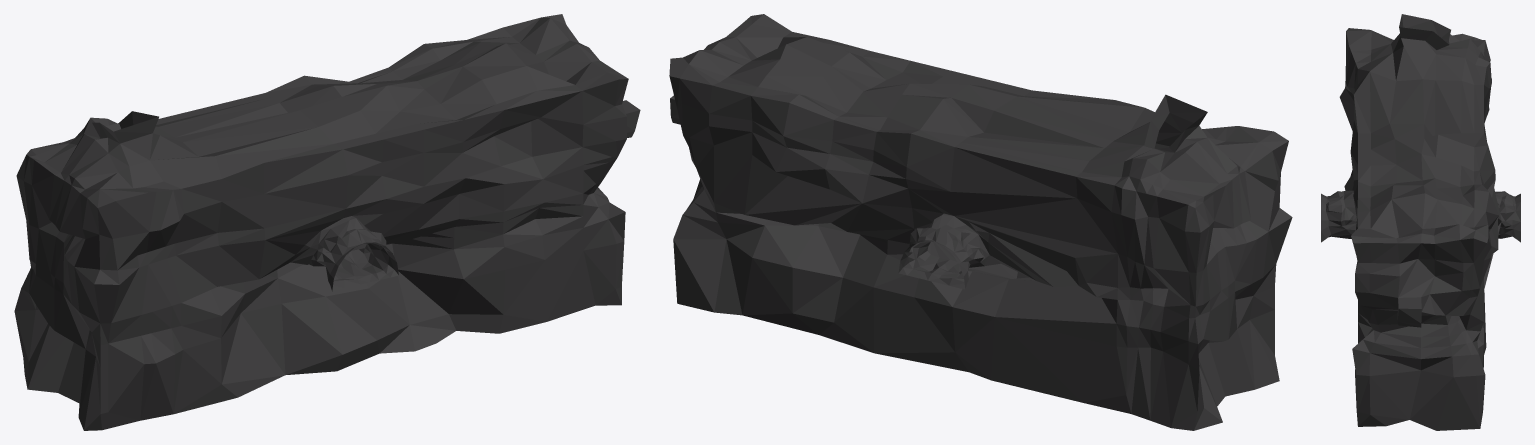
The model's file is Cave_10.fbx.
The picture shows the model from 3 angles, left to right: view 1: azimuth 30°, elevation 25°; view 2: azimuth 150°, elevation 25°; view 3: azimuth 270°, elevation 25°; orthographic projection. The views are drawn at different scales.
Parts seen in each view (by area): view 1: polySurface1252; view 2: polySurface1252; view 3: polySurface1252.
Part boxes in pixels (x1,y1,x2,y2): polySurface1252: (14,14,640,430); polySurface1252: (669,14,1292,430); polySurface1252: (1321,14,1520,430).
Bounding box in the file's own units: 71.4 × 33.7 × 26.27.
